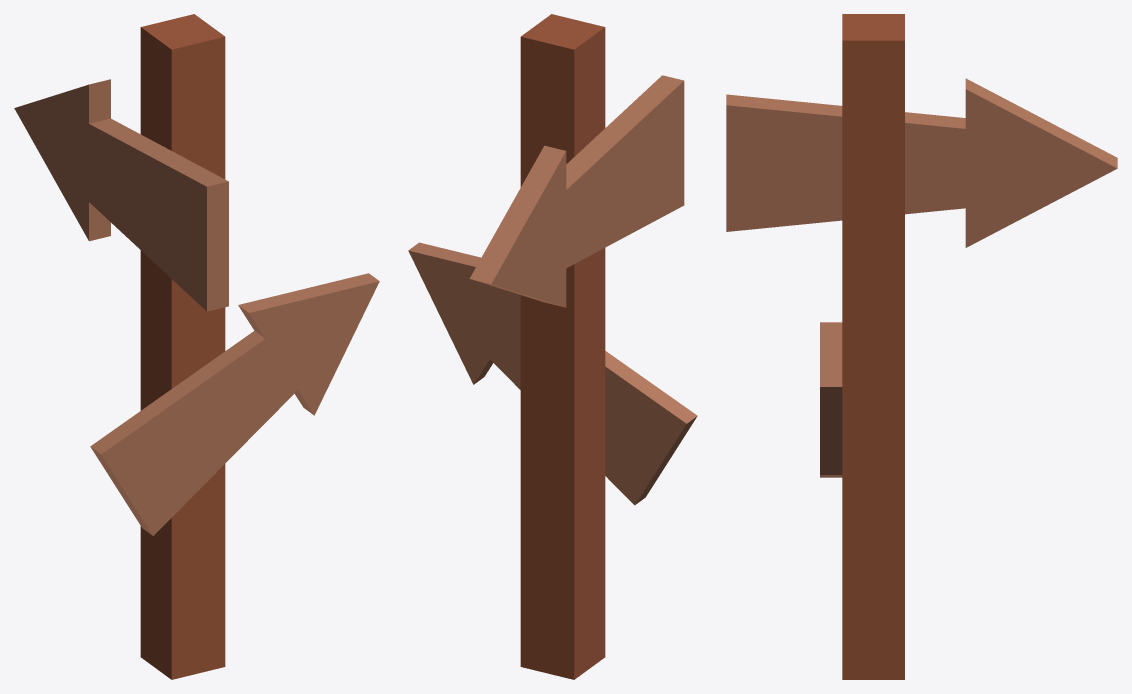
File: Map_summer_sign.fbx
The picture shows the model from 3 angles, left to right: view 1: azimuth 30°, elevation 25°; view 2: azimuth 150°, elevation 25°; view 3: azimuth 270°, elevation 25°; orthographic projection.
Parts seen in each view (by area): view 1: sign; view 2: sign; view 3: sign.
Part boxes in pixels (x1,y1,x2,y2): sign: (14, 14, 379, 679); sign: (408, 14, 697, 679); sign: (726, 14, 1117, 679).
Size of the model in its own units: 10.09 by 21.82 by 12.1.
